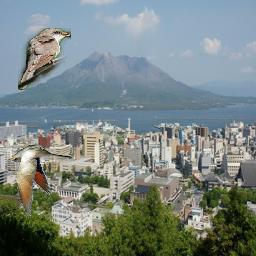Cuckoo: (8, 146, 72, 217), (19, 28, 72, 90)
